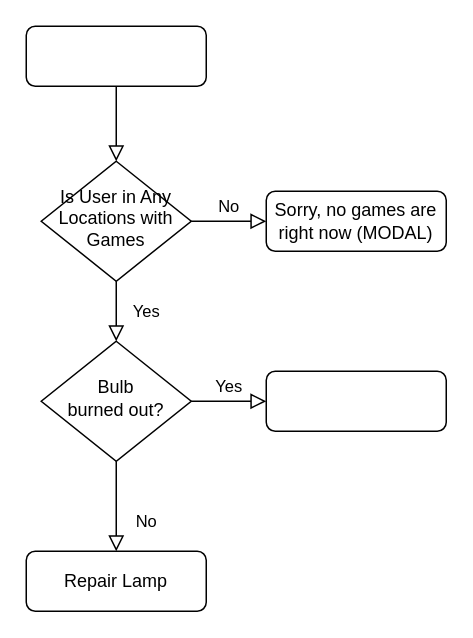
The diagram is 473 pixels wide and 638 high, and some of its shapes have lost their labels. The centre of each missing label's shape, as x and y in pixels:
"Check In Btn" goes at [115,55].
"Replace Bulb" goes at [355,400].
